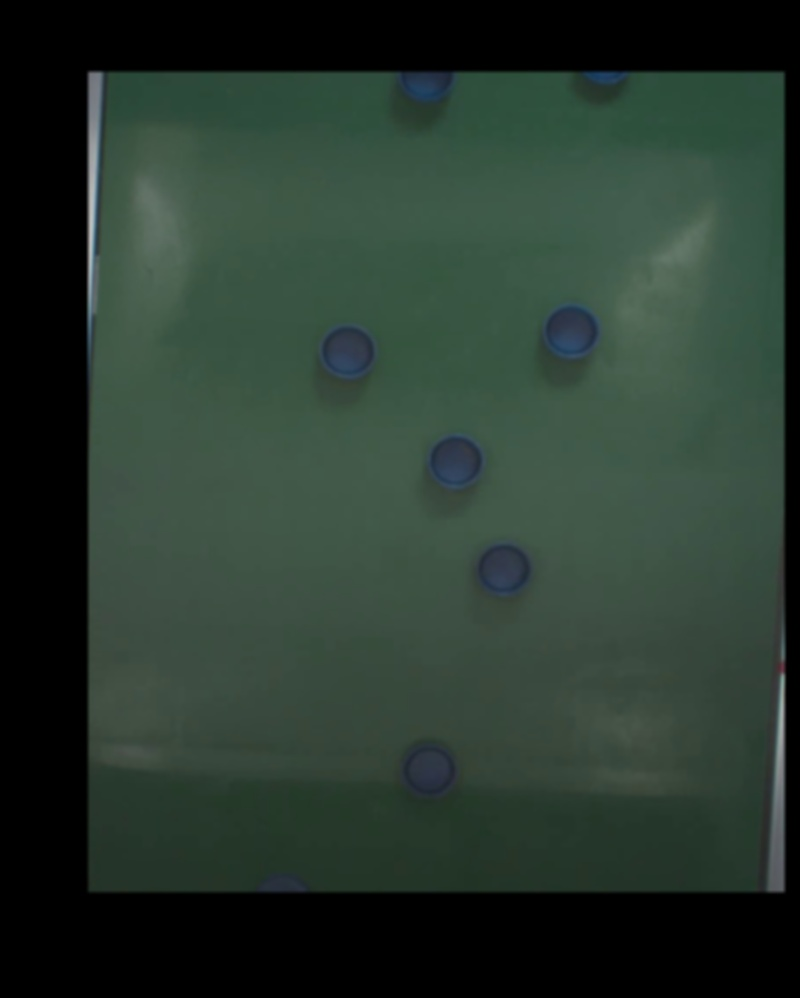Dark Blue: (319, 324, 376, 381), (428, 434, 484, 490), (478, 543, 532, 592), (404, 747, 457, 795), (547, 307, 600, 355)
